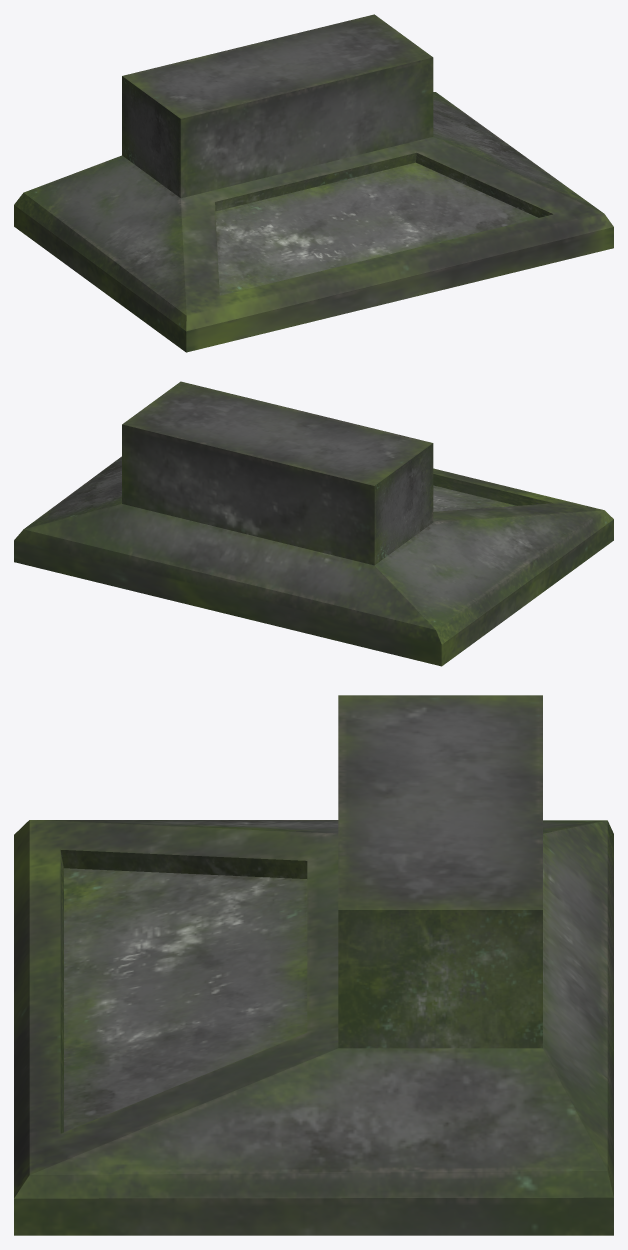
Rendered from tombs_moss_07.fbx.
3 renders of one model, top to bottom at view 1: azimuth 30°, elevation 25°; view 2: azimuth 150°, elevation 25°; view 3: azimuth 270°, elevation 25°, orthographic. The views are drawn at different scales.
Parts seen in each view (by area): view 1: tombs_moss_07; view 2: tombs_moss_07; view 3: tombs_moss_07.
Boxes of the visible parts, x1,y1,x2,y2 form: tombs_moss_07: (14, 14, 613, 352); tombs_moss_07: (14, 381, 613, 666); tombs_moss_07: (14, 695, 613, 1235).
Size of the model in its own units: 0.1883 by 0.0606 by 0.1312.
1 material, 1 textured.
